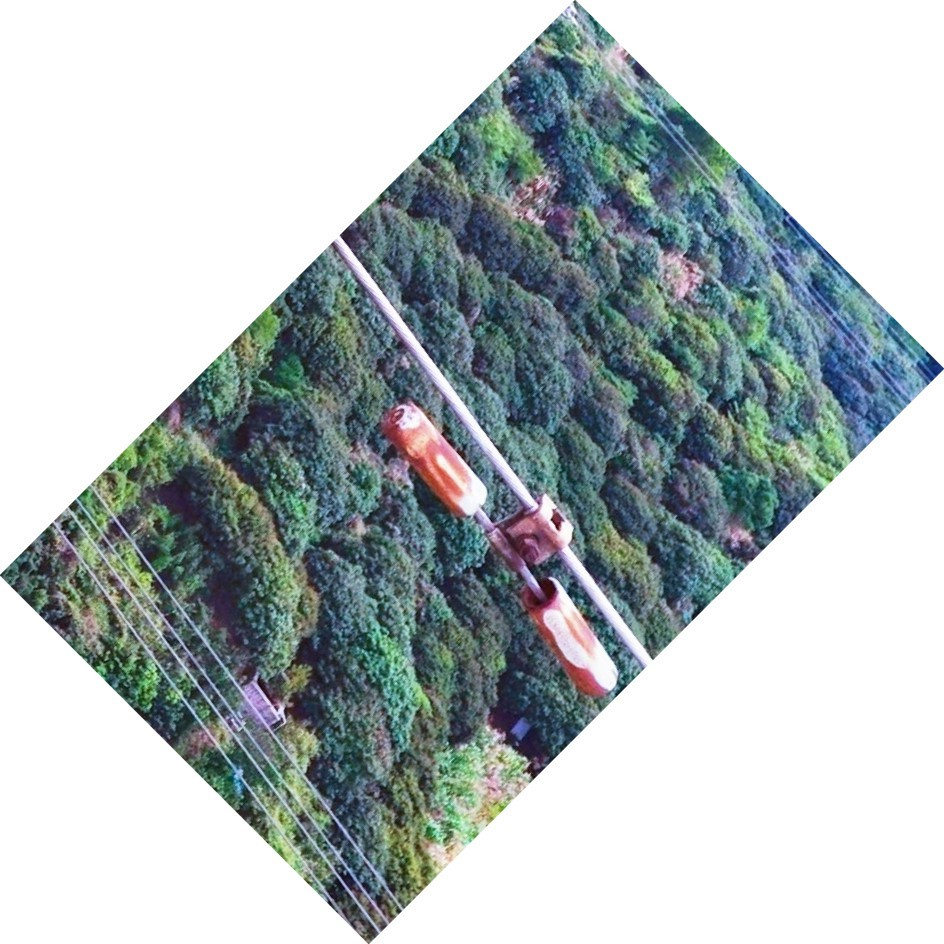Shockproof hammer: (380, 369, 626, 699)
